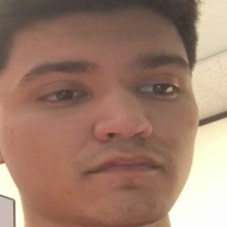awake: (17, 49, 197, 196)
